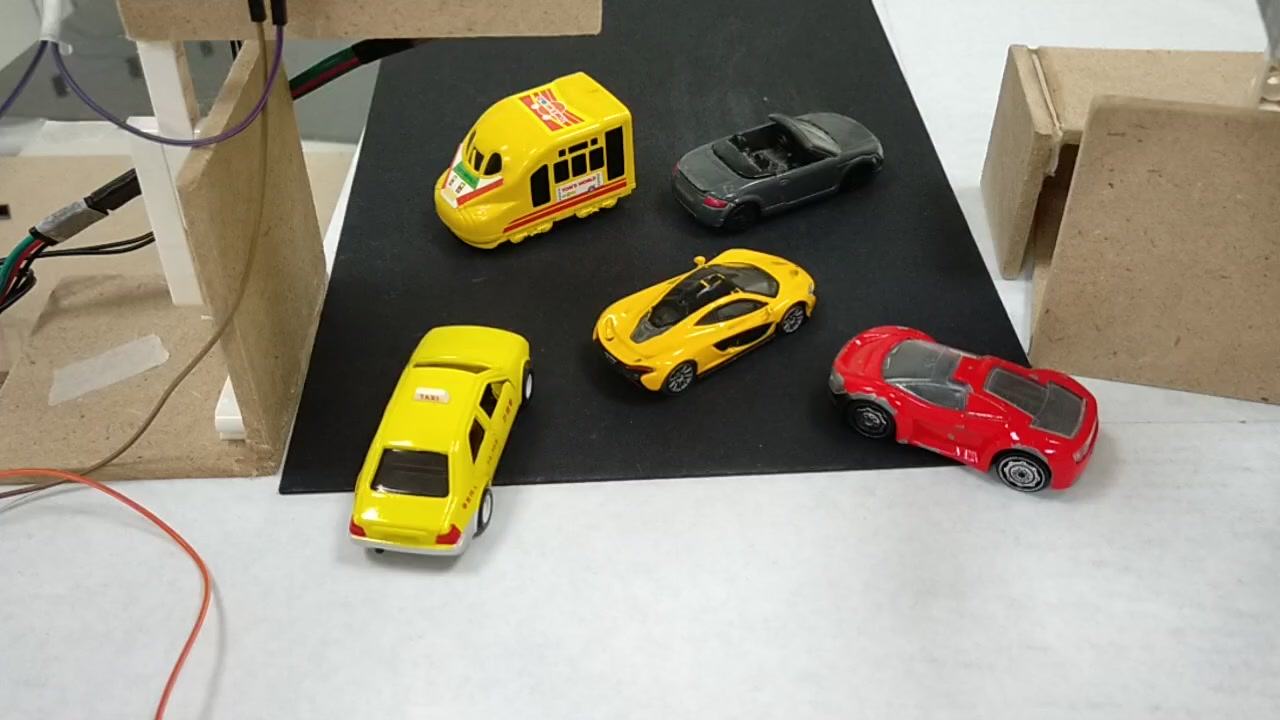car: (826, 318, 1102, 504), (346, 341, 541, 555), (589, 246, 818, 381), (665, 103, 877, 225)
